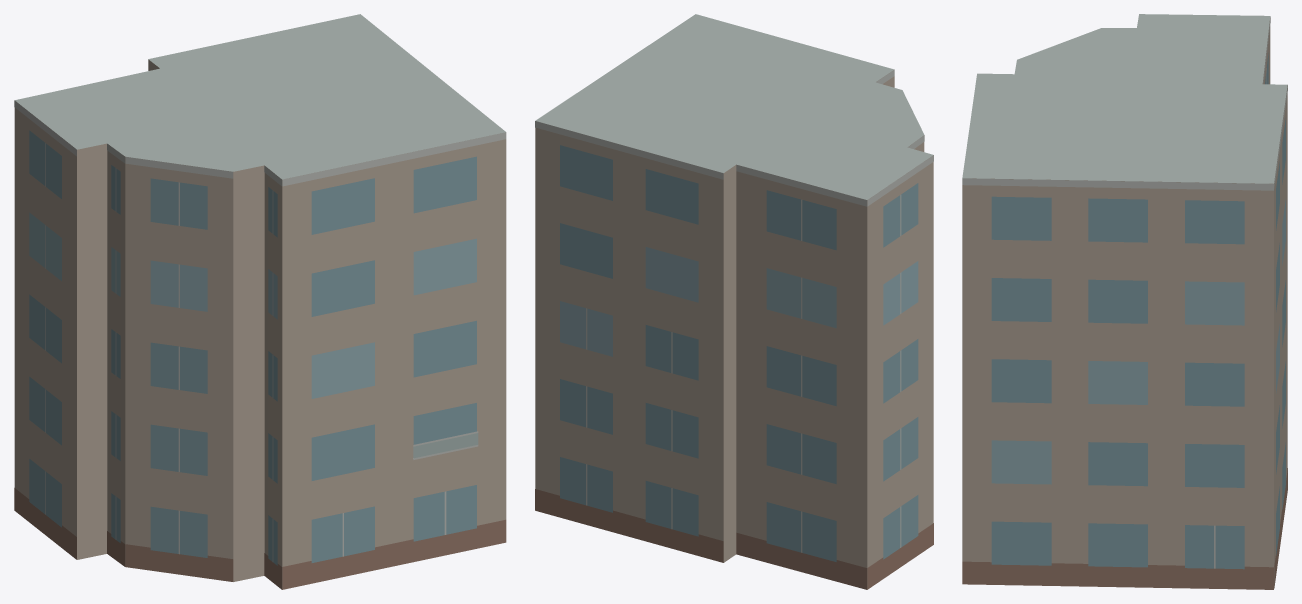
File: survey-upis-32820572.glb
3 views of the same model, side by side, from view 1: azimuth 30°, elevation 25°; view 2: azimuth 150°, elevation 25°; view 3: azimuth 270°, elevation 25° (orthographic). The views are drawn at different scales.
Visible parts, largest first — view 1: survey-upis-32820572.tmp; view 2: survey-upis-32820572.tmp; view 3: survey-upis-32820572.tmp.
Boxes of the visible parts, bbox=[...] form: survey-upis-32820572.tmp: bbox=[14, 14, 506, 589]; survey-upis-32820572.tmp: bbox=[535, 14, 933, 589]; survey-upis-32820572.tmp: bbox=[962, 14, 1287, 589].
Bounding box in the file's own units: 12.83 × 14.3 × 10.39.
